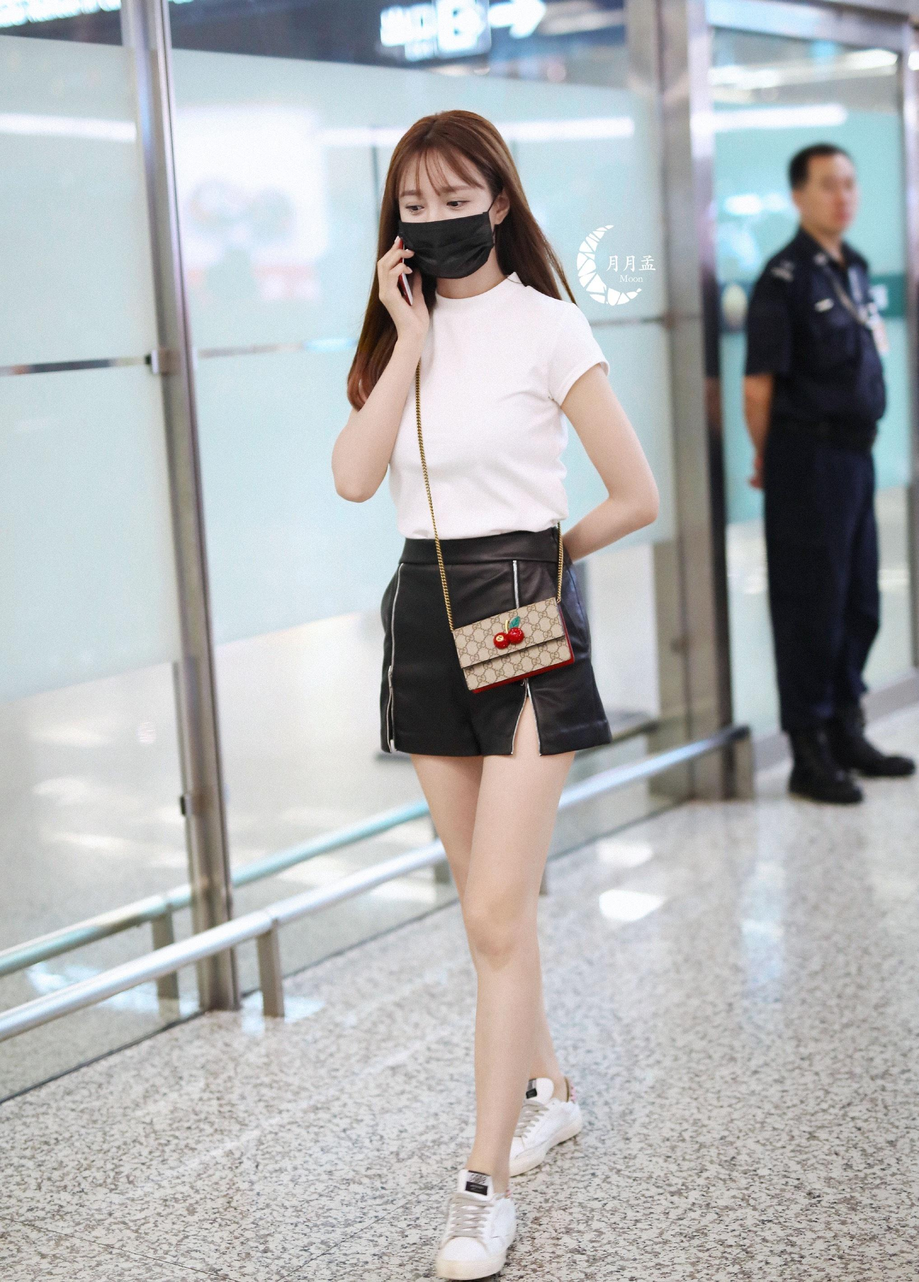NONE: (803, 168, 859, 226)
OK: (395, 182, 493, 280)
